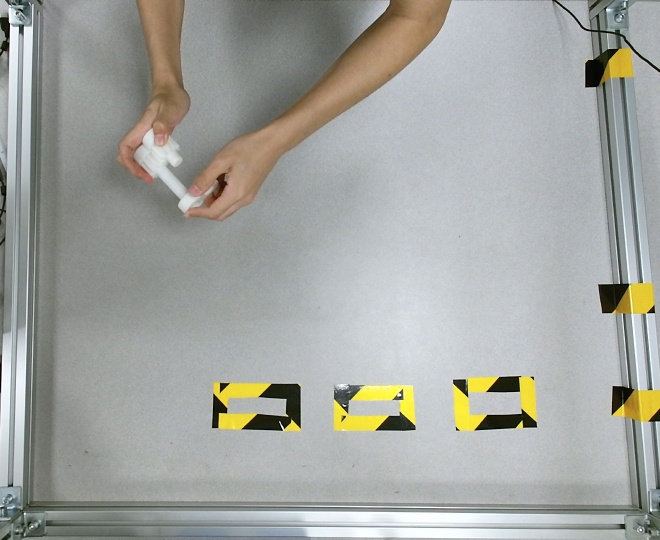stage_3: (132, 127, 219, 216)
